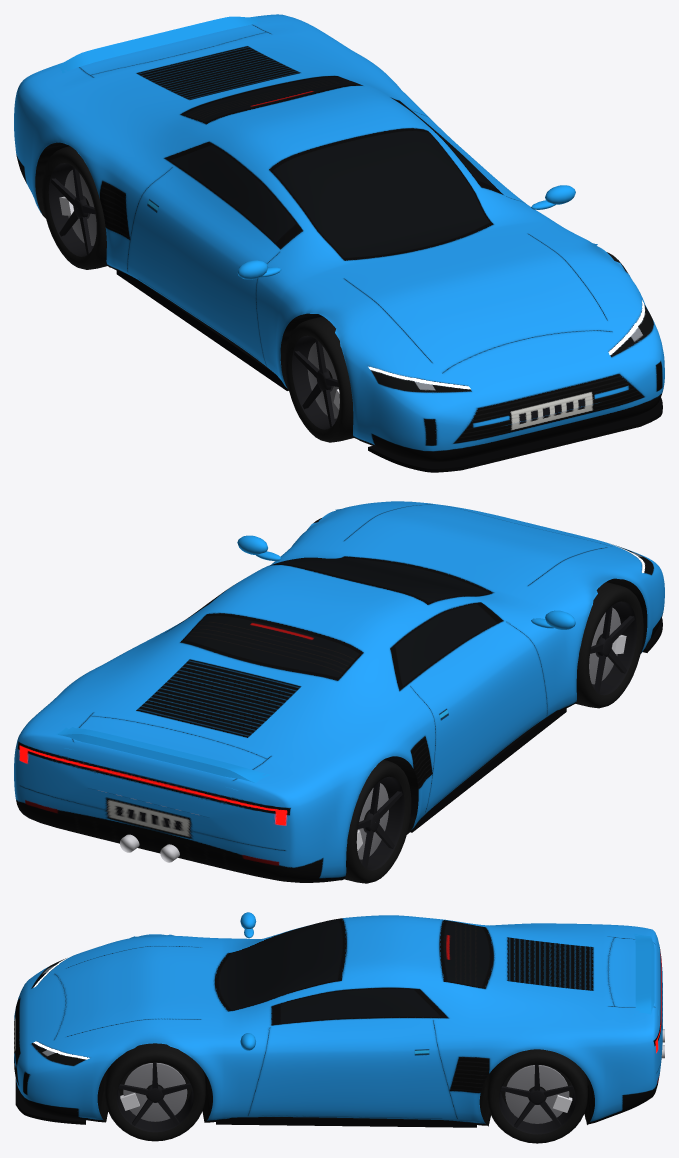
The model's file is car_static.glb.
3 renders of one model, top to bottom at view 1: azimuth 30°, elevation 25°; view 2: azimuth 150°, elevation 25°; view 3: azimuth 270°, elevation 25°, orthographic. The views are drawn at different scales.
Visible parts, largest first — view 1: Body, Wheel_FR, Wheel_RR; view 2: Body, Wheel_FR, Wheel_RR; view 3: Body, Wheel_FL, Wheel_RL.
Boxes of the visible parts, x1=… form: Body: x1=14, y1=14, x2=664, y2=472; Wheel_FR: x1=285, y1=316, x2=353, y2=442; Wheel_RR: x1=42, y1=146, x2=107, y2=269; Body: x1=14, y1=501, x2=664, y2=882; Wheel_FR: x1=576, y1=582, x2=643, y2=708; Wheel_RR: x1=344, y1=759, x2=411, y2=883; Body: x1=14, y1=912, x2=664, y2=1127; Wheel_FL: x1=105, y1=1043, x2=205, y2=1141; Wheel_RL: x1=487, y1=1049, x2=587, y2=1143.
Bounding box in the file's own units: 2.17 × 1.1 × 4.52.
9 materials, 1 textured.
